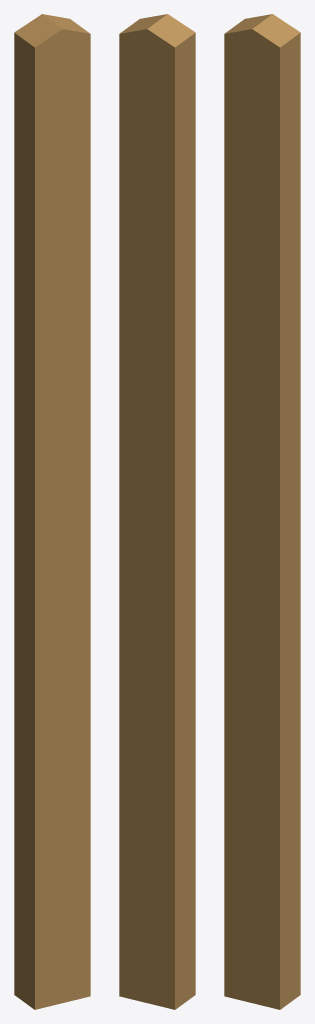
3 views of the same model, side by side, from view 1: azimuth 30°, elevation 25°; view 2: azimuth 150°, elevation 25°; view 3: azimuth 330°, elevation 25° (orthographic).
Parts seen in each view (by area): view 1: L4-6-S5-3EB-M05; view 2: L4-6-S5-3EB-M05; view 3: L4-6-S5-3EB-M05.
Boxes of the visible parts, left/top/right/bottom form: L4-6-S5-3EB-M05: left=14, top=14, right=90, bottom=1009; L4-6-S5-3EB-M05: left=119, top=14, right=195, bottom=1009; L4-6-S5-3EB-M05: left=224, top=14, right=300, bottom=1009.
Size of the model in its own units: 0.0705 by 1.17 by 0.045.
